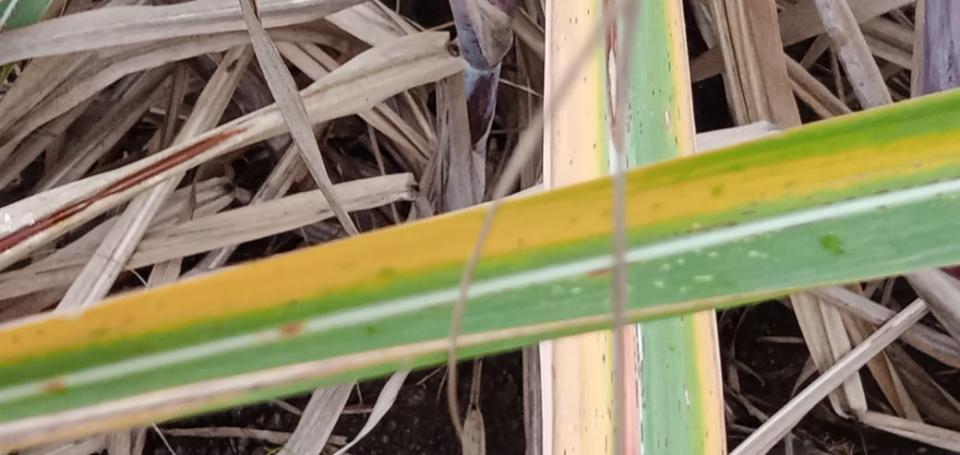RedRot: (606, 19, 618, 127), (275, 322, 304, 339), (39, 379, 66, 394)
Rust: (685, 218, 739, 239), (918, 177, 940, 187), (635, 323, 640, 363), (898, 183, 915, 193), (634, 378, 639, 409), (873, 188, 890, 197), (607, 405, 613, 421), (604, 434, 608, 454), (600, 353, 607, 364), (609, 369, 614, 384), (663, 436, 669, 448), (677, 399, 682, 413), (642, 335, 645, 358), (641, 421, 644, 443), (876, 204, 887, 210), (674, 134, 679, 147), (667, 60, 672, 73), (640, 386, 645, 398), (676, 107, 681, 118), (655, 439, 661, 448), (627, 121, 631, 134), (594, 407, 598, 420), (569, 157, 574, 166), (640, 359, 643, 373), (606, 158, 610, 168), (665, 362, 670, 370), (629, 113, 633, 122), (637, 365, 640, 377), (642, 401, 646, 410), (628, 103, 633, 110), (638, 129, 643, 136), (650, 89, 655, 96), (592, 142, 597, 149), (709, 390, 714, 397), (575, 17, 579, 25), (583, 76, 587, 84), (666, 52, 671, 58), (680, 316, 685, 322), (668, 95, 672, 102), (586, 8, 590, 15), (705, 430, 709, 437), (635, 110, 640, 115), (568, 17, 572, 23), (604, 113, 607, 121), (563, 448, 567, 454), (639, 121, 642, 128), (658, 88, 662, 93), (635, 363, 637, 373)
Yellow: (0, 202, 490, 362), (625, 127, 959, 230), (482, 175, 613, 255), (694, 309, 727, 454), (666, 0, 696, 157)
